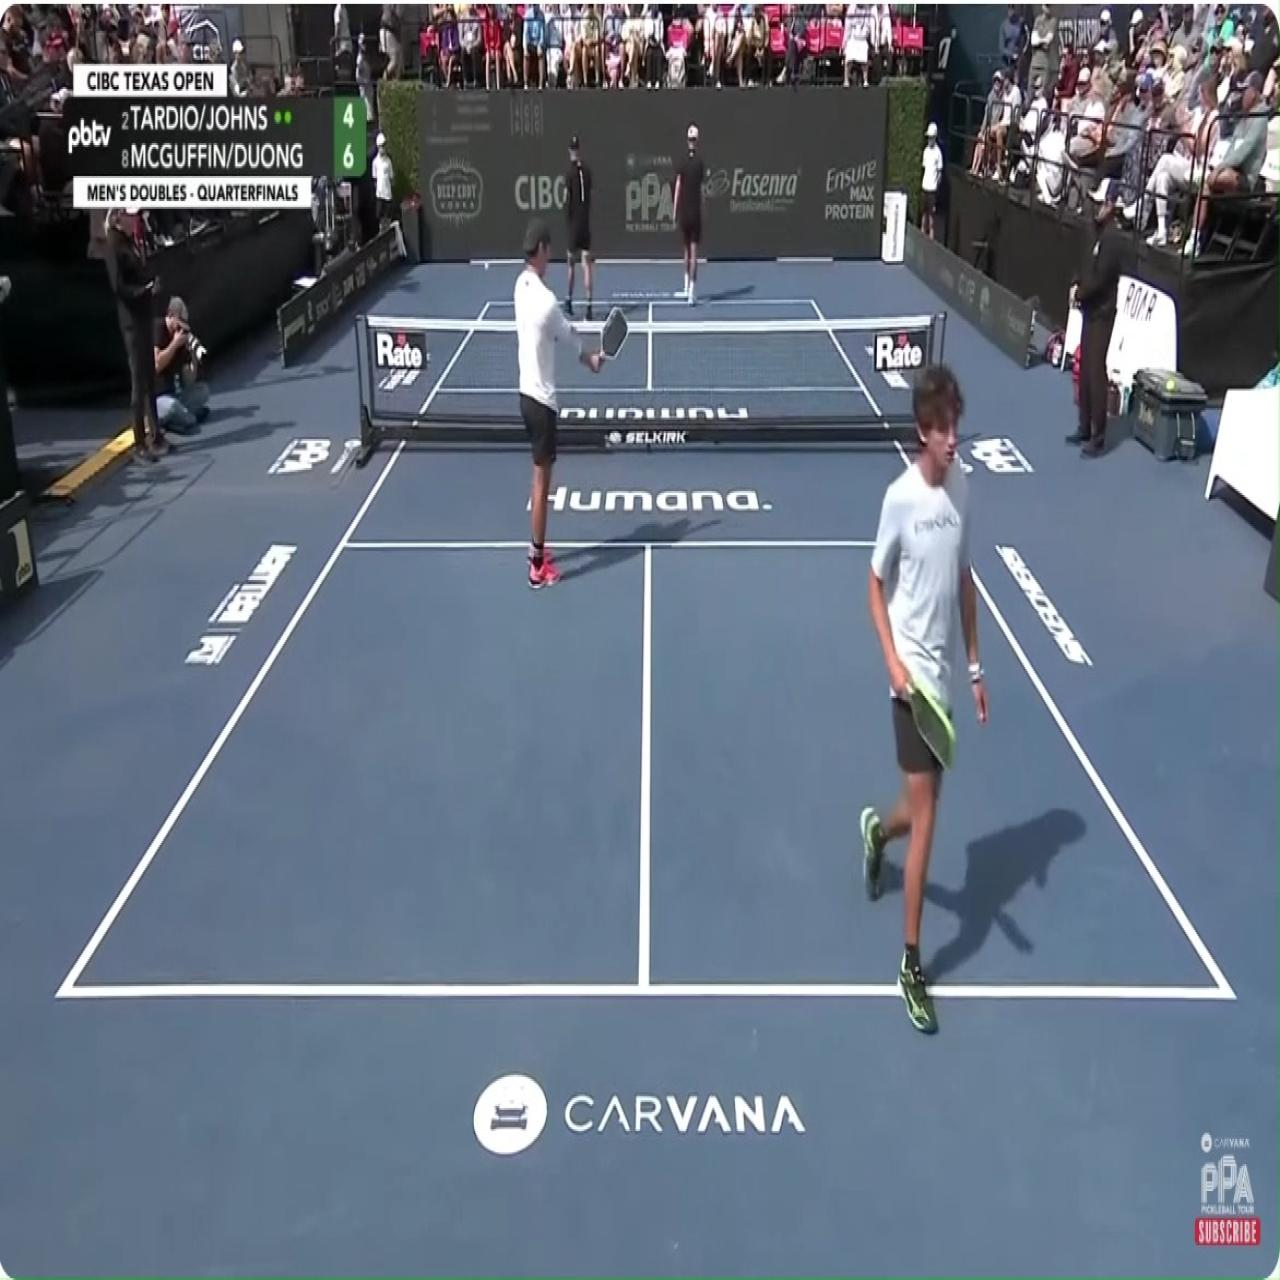pickleball: (484, 261, 490, 271)
